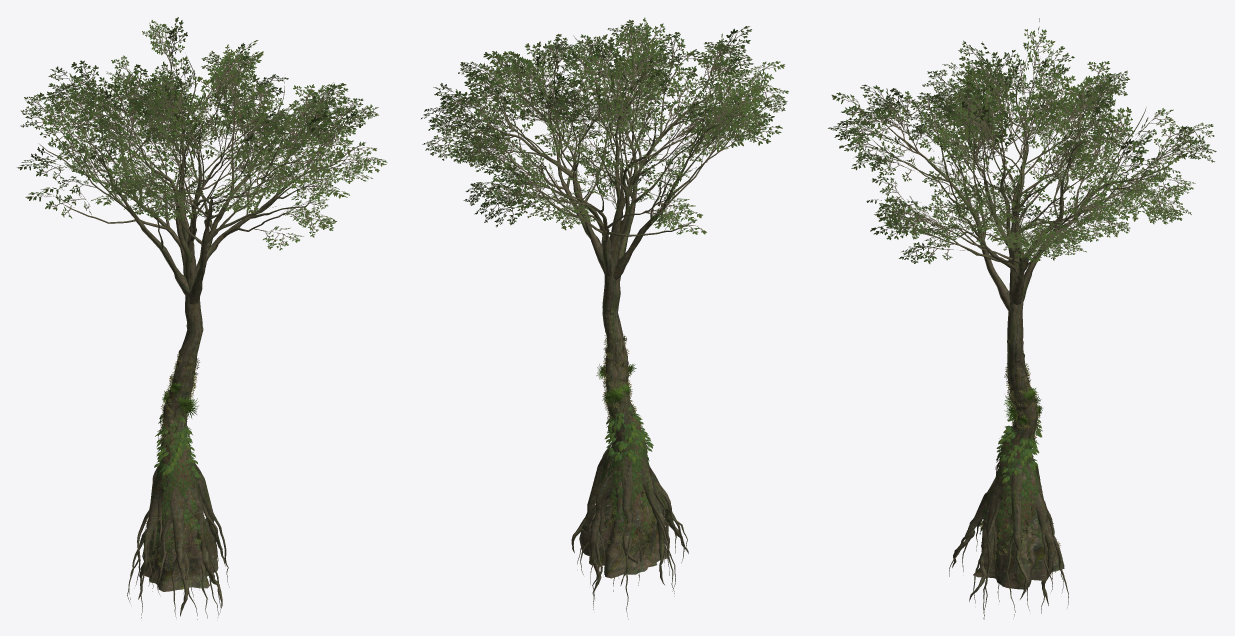
Rendered from Tree - Alien Tree 04 2-ZLoypSIX.glb.
3 views of the same model, side by side, from view 1: azimuth 30°, elevation 25°; view 2: azimuth 150°, elevation 25°; view 3: azimuth 270°, elevation 25° (orthographic).
Visible parts, largest first — view 1: Tree_04_2_L0(Clone), Tree_04_2_plants_L0(Clone); view 2: Tree_04_2_L0(Clone), Tree_04_2_plants_L0(Clone); view 3: Tree_04_2_L0(Clone), Tree_04_2_plants_L0(Clone).
Boxes of the visible parts, x1=… form: Tree_04_2_L0(Clone): x1=17, y1=17, x2=387, y2=619; Tree_04_2_plants_L0(Clone): x1=144, y1=352, x2=210, y2=571; Tree_04_2_L0(Clone): x1=421, y1=17, x2=788, y2=619; Tree_04_2_plants_L0(Clone): x1=581, y1=334, x2=664, y2=560; Tree_04_2_L0(Clone): x1=828, y1=18, x2=1216, y2=619; Tree_04_2_plants_L0(Clone): x1=979, y1=363, x2=1060, y2=565.
Bounding box in the file's own units: 13.33 × 22.38 × 14.61.
3 materials, 3 textured.
